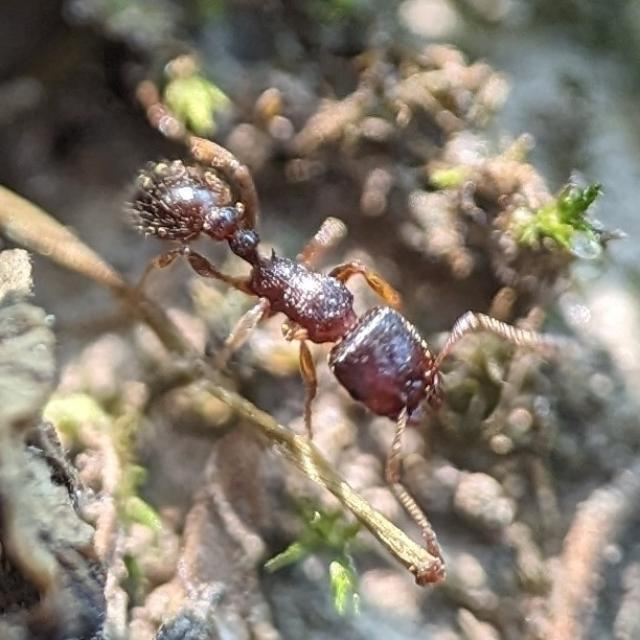Tetramorium: (102, 120, 504, 452)
